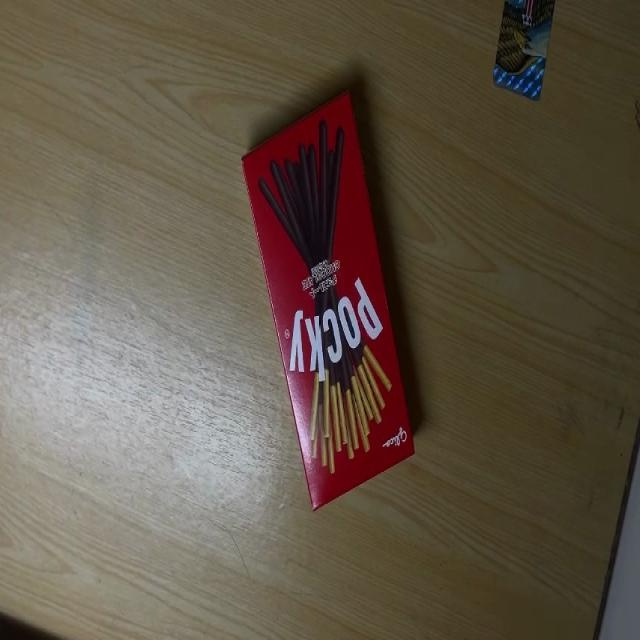Pocky: (238, 86, 414, 511)
